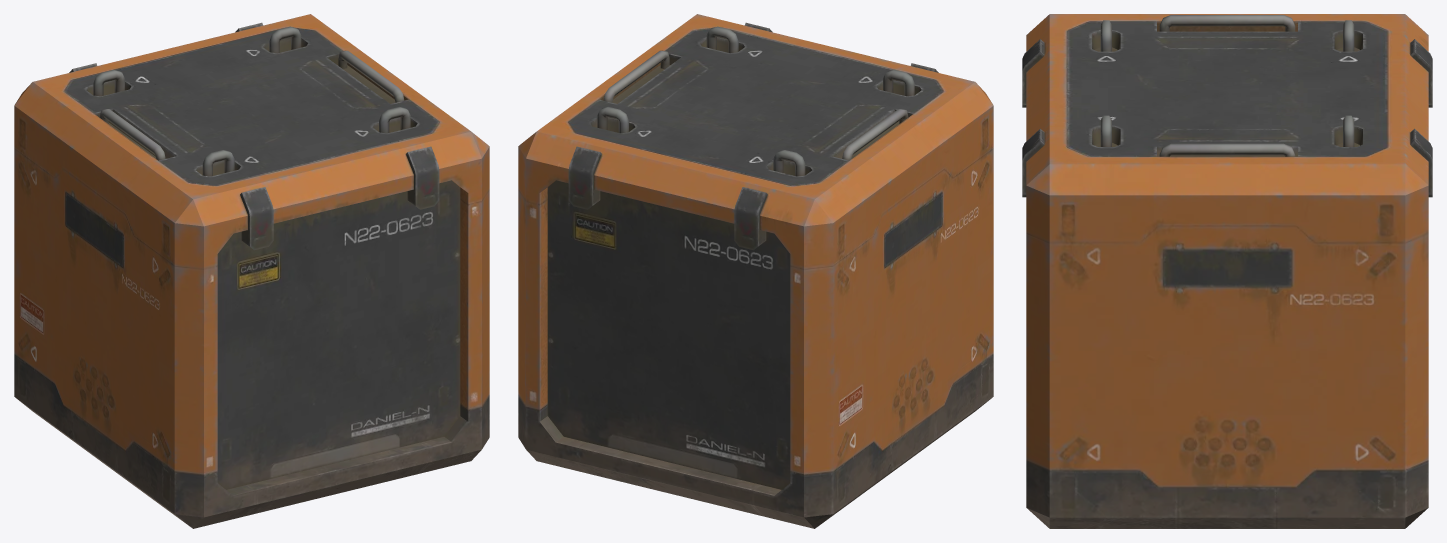
The model's file is welcome.glb.
3 views of the same model, side by side, from view 1: azimuth 30°, elevation 25°; view 2: azimuth 150°, elevation 25°; view 3: azimuth 270°, elevation 25° (orthographic). The views are drawn at different scales.
Parts seen in each view (by area): view 1: defaultMaterial; view 2: defaultMaterial; view 3: defaultMaterial.
Part boxes in pixels (<box>): defaultMaterial: <box>14,14,489,528</box>; defaultMaterial: <box>518,14,993,528</box>; defaultMaterial: <box>1022,14,1432,528</box>.
Bounding box in the file's own units: 1.52 × 1.6 × 1.55.
1 material, 1 textured.
